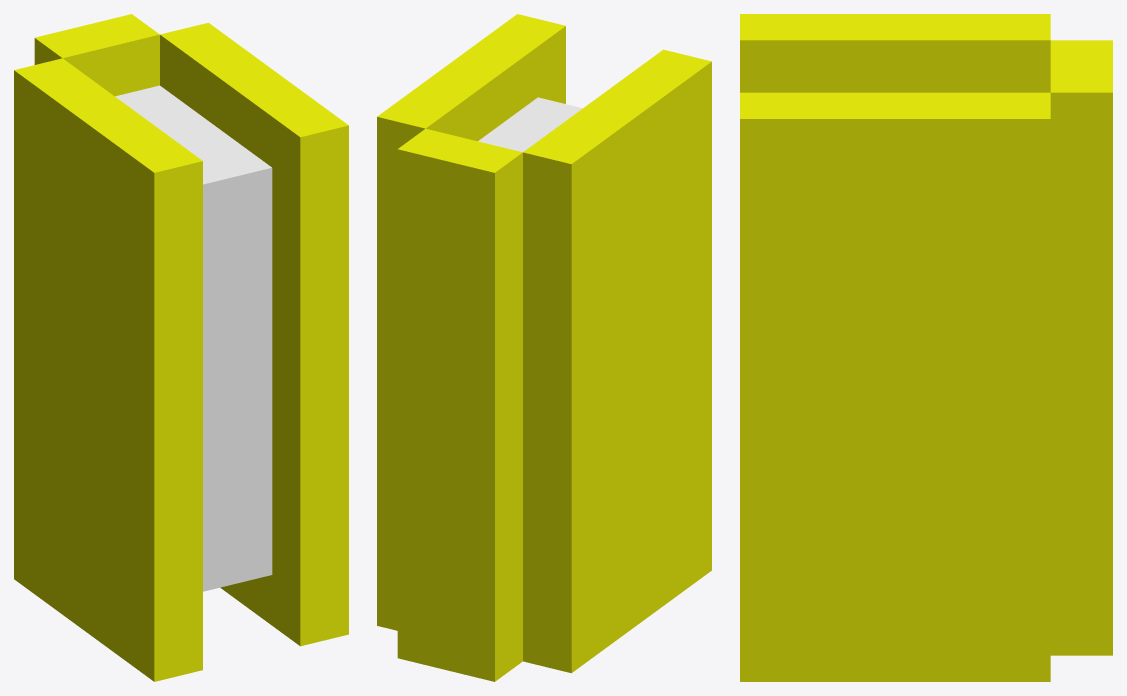
File: Books.vox-1.obj
3 renders of one model, left to right at view 1: azimuth 30°, elevation 25°; view 2: azimuth 150°, elevation 25°; view 3: azimuth 270°, elevation 25°, orthographic. The views are drawn at different scales.
Size of the model in its own units: 0.4 by 1 by 0.6.
1 material, 1 textured.
